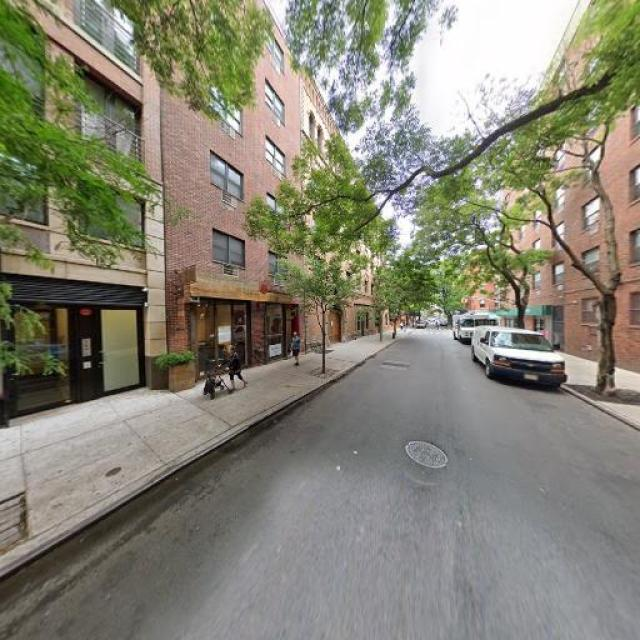Building: (1, 1, 160, 424), (165, 1, 302, 384), (504, 1, 640, 377)
